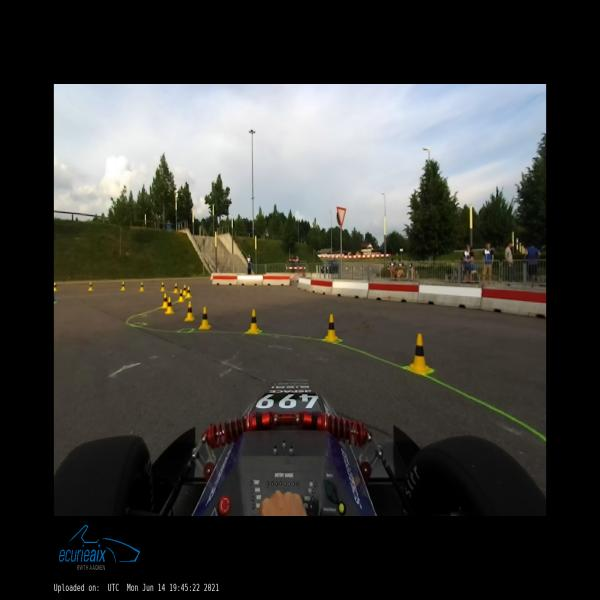yellow_cone: (408, 334, 430, 374), (324, 314, 339, 342), (248, 310, 260, 334), (199, 306, 211, 328), (184, 302, 195, 321), (164, 297, 174, 314), (178, 289, 185, 302), (162, 293, 168, 308), (186, 286, 192, 298), (160, 282, 165, 292), (139, 282, 144, 291), (88, 282, 93, 290), (174, 282, 178, 292), (183, 284, 187, 294), (121, 281, 125, 290), (54, 283, 57, 291)
